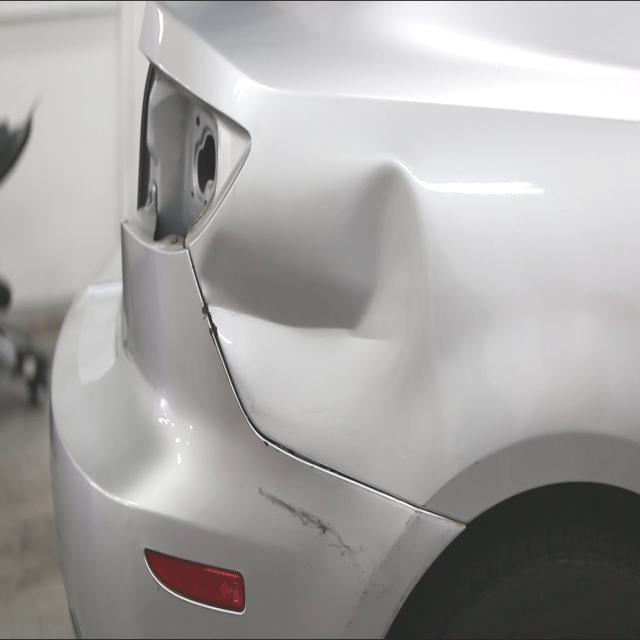minor: (192, 123, 442, 439), (256, 490, 356, 560)
